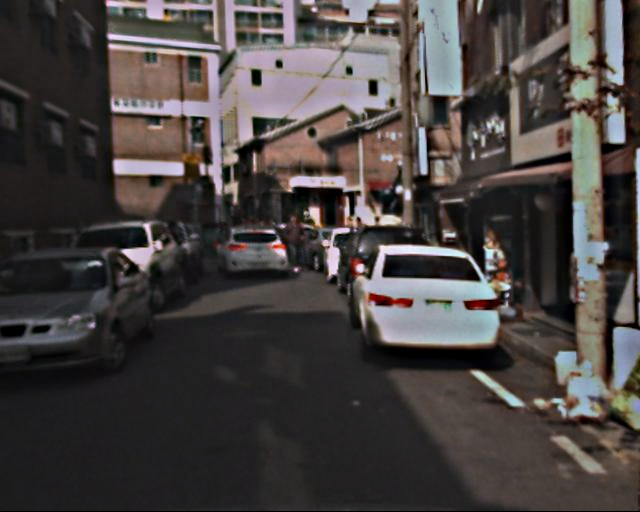person: (281, 214, 306, 275)
